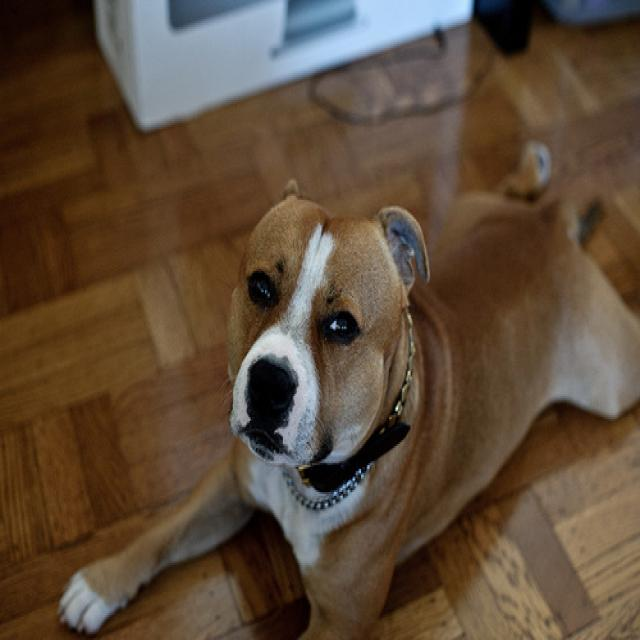dog-staffordshire_bull_terrier: (42, 129, 637, 636)
